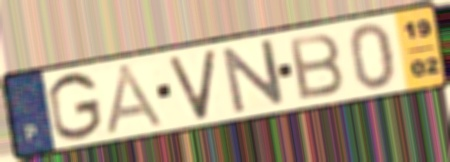0: (347, 20, 398, 92)
A: (101, 61, 170, 138)
B: (285, 30, 347, 102)
G: (45, 70, 105, 143)
N: (219, 36, 288, 116)
V: (166, 46, 218, 122)
